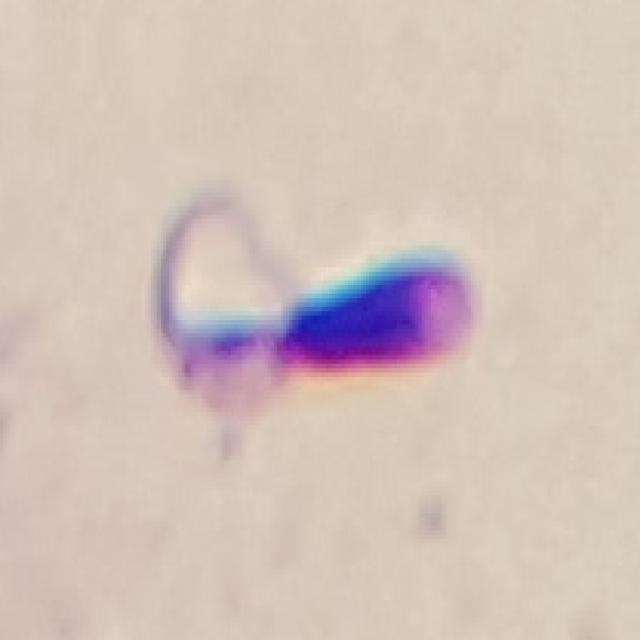abnormal sperm: (152, 184, 478, 420)
